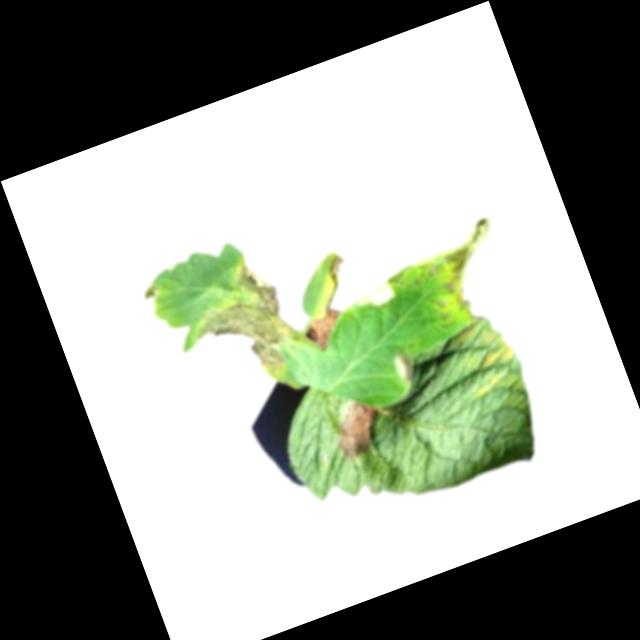Late_blight: (179, 256, 304, 392), (427, 215, 523, 326), (324, 393, 390, 464), (300, 304, 353, 357), (346, 276, 399, 318), (321, 251, 354, 295), (390, 349, 419, 386), (137, 281, 166, 308)
